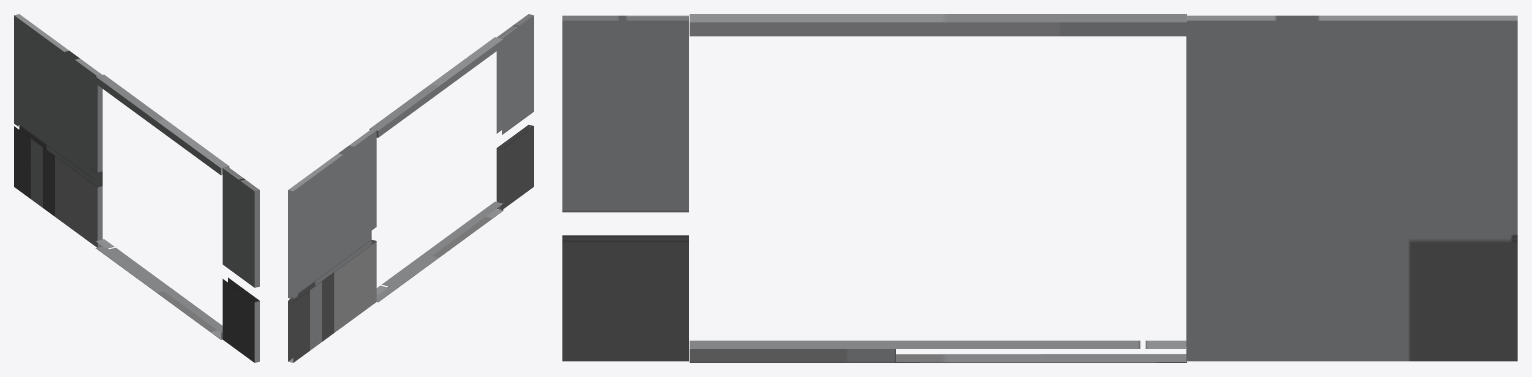
3 views of the same model, side by side, from view 1: azimuth 30°, elevation 25°; view 2: azimuth 150°, elevation 25°; view 3: azimuth 270°, elevation 25° (orthographic). The views are drawn at different scales.
Size of the model in its own units: 0.05 by 0.968 by 2.46.
